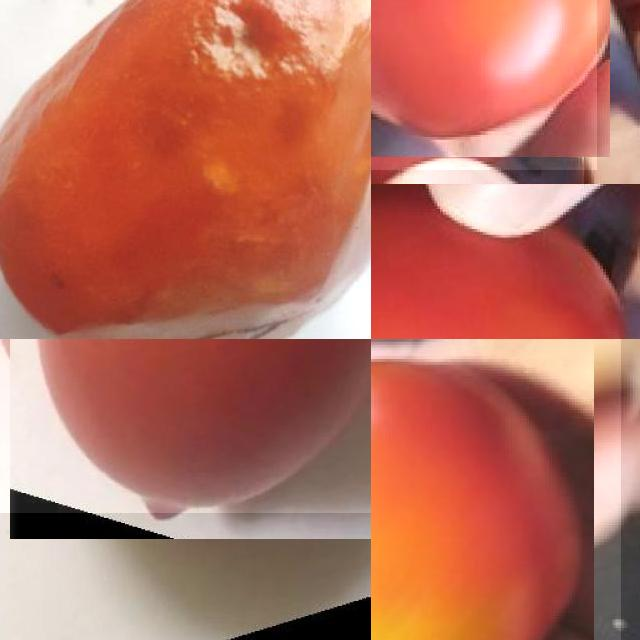0: (371, 184, 640, 339), (371, 0, 597, 170)
Fresh Tomato: (371, 339, 621, 640), (0, 339, 371, 513)
Rotten Tomato: (0, 0, 371, 339)
